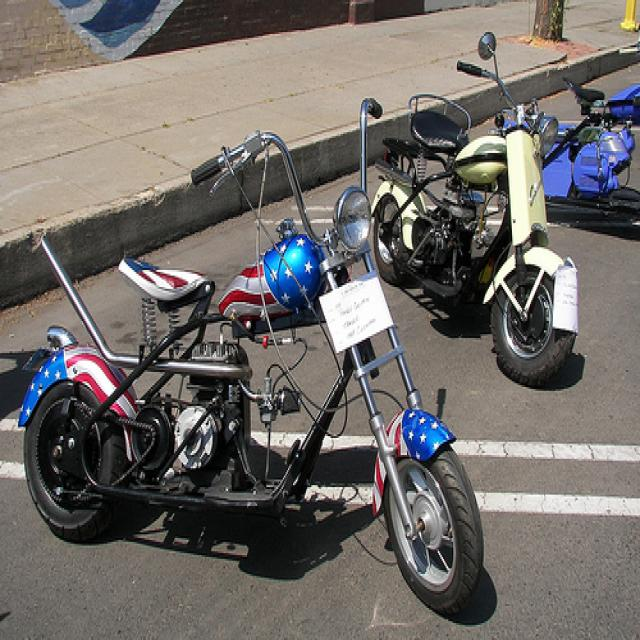motorbike: (15, 96, 489, 619), (363, 30, 580, 398)
